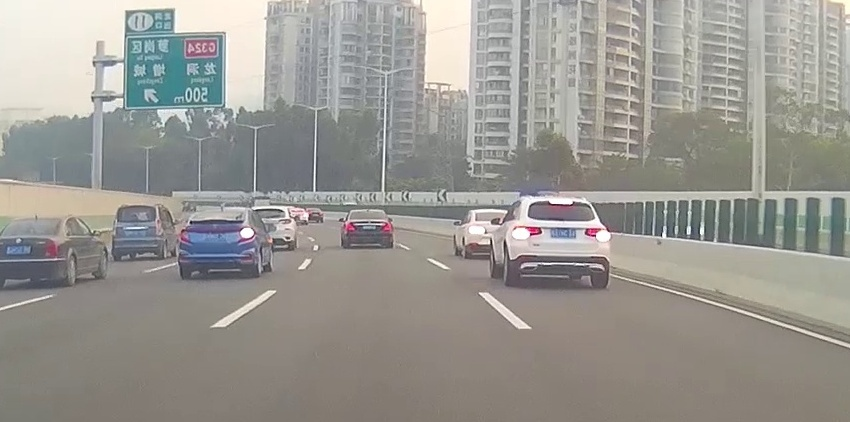L_light: (511, 226, 542, 240), (180, 227, 192, 244), (344, 221, 356, 232), (111, 219, 117, 237)
R_light: (584, 228, 611, 242), (238, 225, 254, 243), (155, 218, 163, 236), (380, 221, 391, 232)
T_light: (549, 199, 573, 205), (127, 204, 143, 208), (216, 207, 228, 211), (364, 210, 373, 214)
day-brake: (509, 196, 611, 288)
day-no: (109, 203, 167, 262), (342, 209, 393, 248)
day-right: (176, 206, 262, 278)
